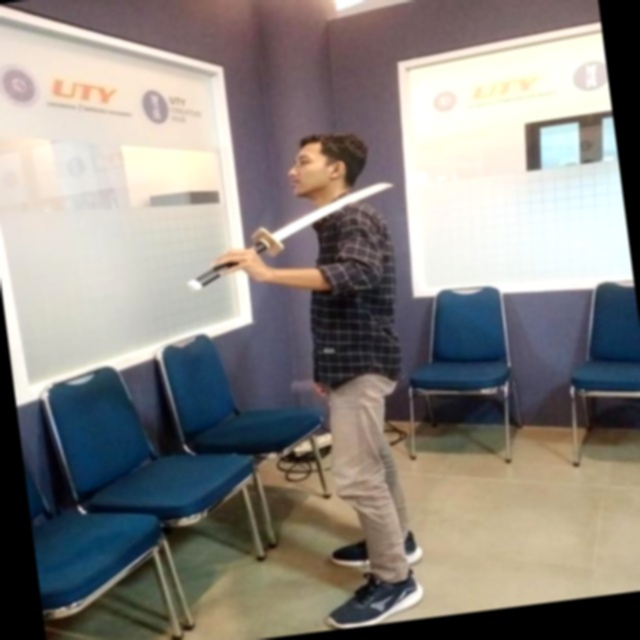Sharp-Object: (174, 175, 406, 294)
